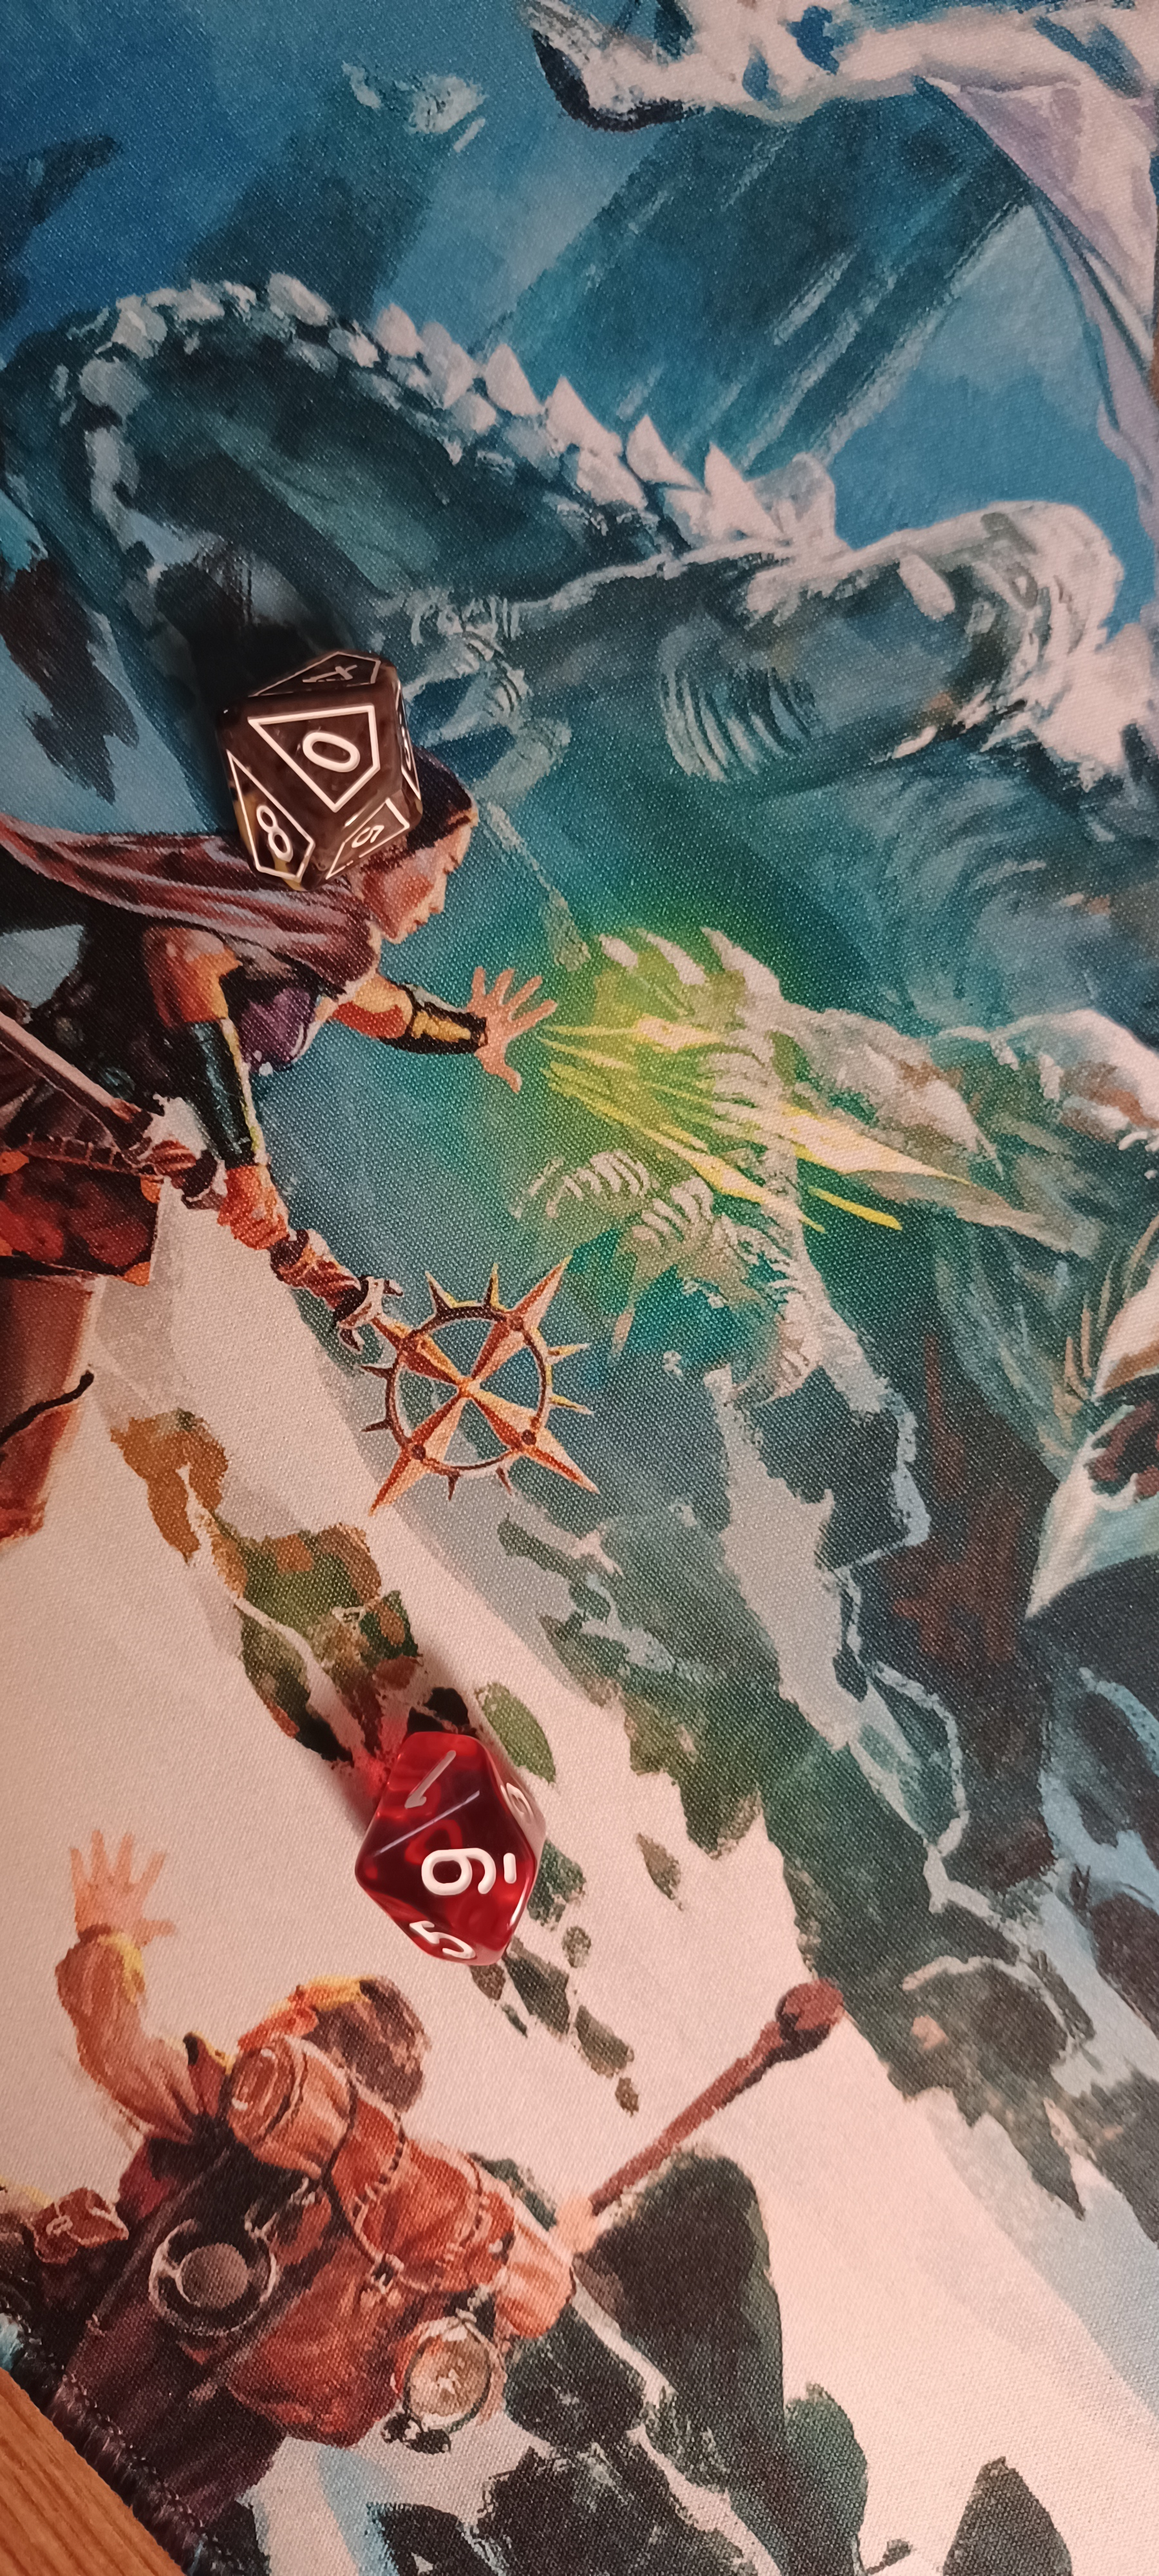nine: (292, 1699, 609, 2004)
zero: (169, 609, 491, 904)
